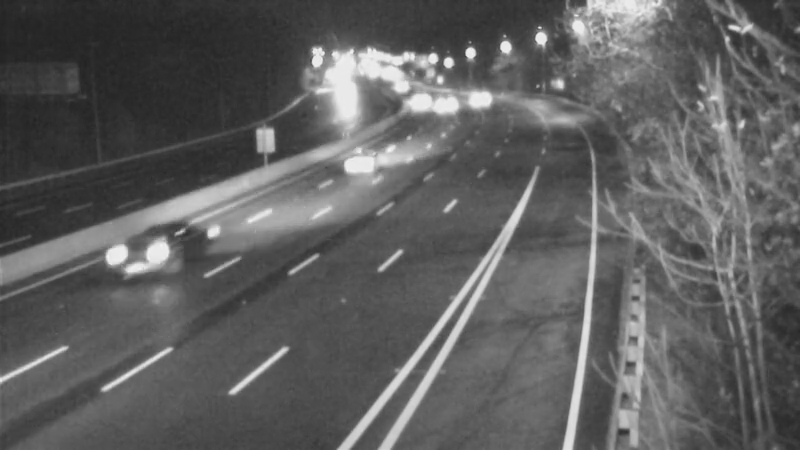vehicle: (322, 126, 402, 206), (101, 218, 181, 298), (453, 75, 503, 125), (389, 75, 439, 125), (421, 79, 471, 129), (324, 78, 374, 128)
